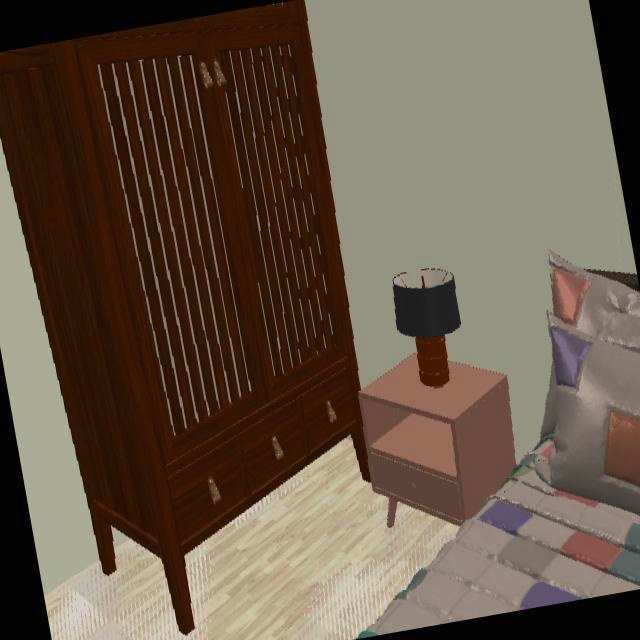bed: (355, 259, 640, 639)
lamp: (390, 267, 462, 386)
nighttable: (359, 344, 517, 527)
